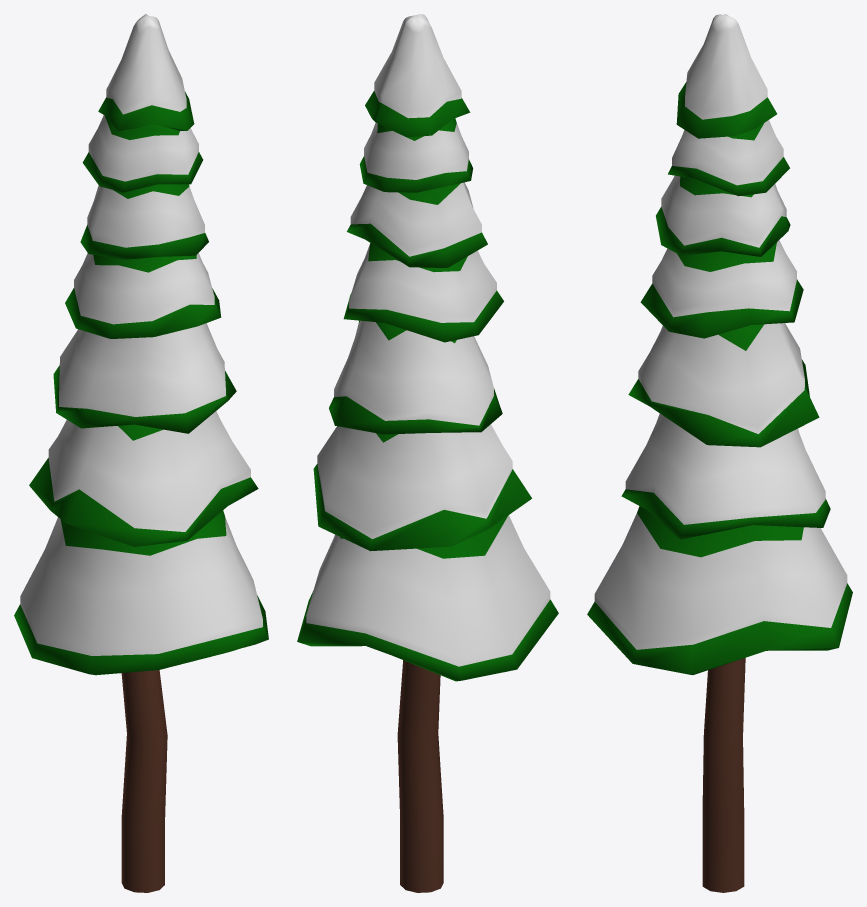
Rendered from PineTreeB.fbx.
The picture shows the model from 3 angles, left to right: view 1: azimuth 30°, elevation 25°; view 2: azimuth 150°, elevation 25°; view 3: azimuth 270°, elevation 25°; orthographic projection.
Parts seen in each view (by area): view 1: leaves4, trunk4; view 2: leaves4, trunk4; view 3: leaves4, trunk4.
Boxes of the visible parts, x1,y1,x2,y2 form: leaves4: [14, 14, 268, 675]; trunk4: [121, 670, 167, 892]; leaves4: [297, 14, 558, 681]; trunk4: [397, 660, 443, 892]; leaves4: [587, 14, 852, 674]; trunk4: [702, 658, 745, 892].
Size of the model in its own units: 600 by 2376 by 657.
